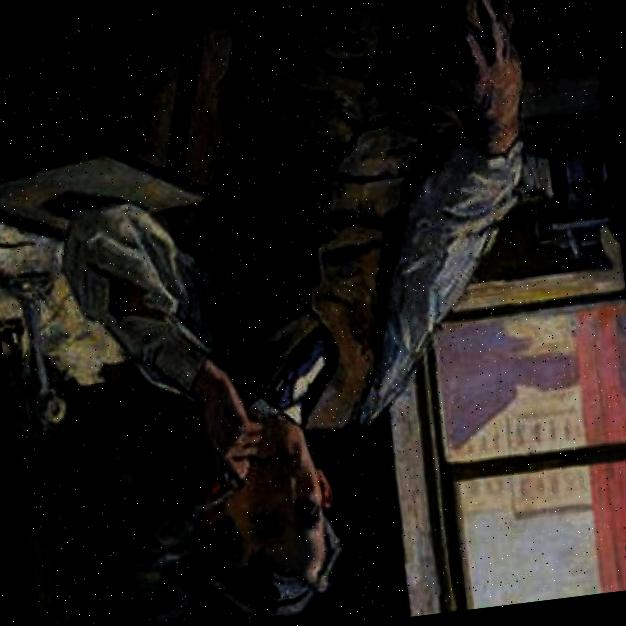smoke: (117, 503, 202, 613)
